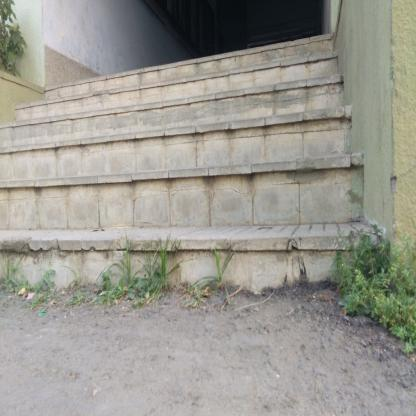stairs: (39, 92, 240, 312)
